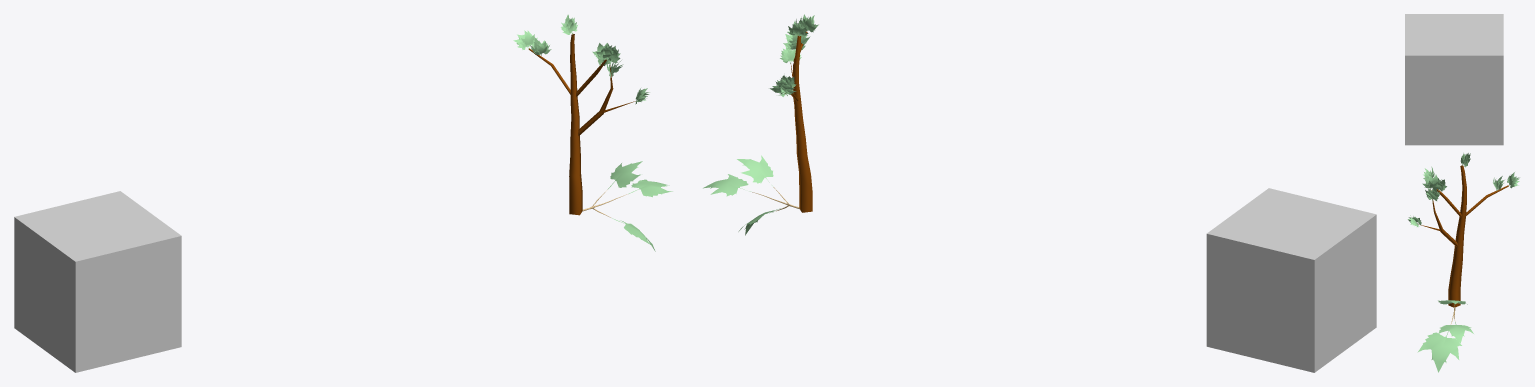
The model's file is FinalTree14.fbx.
3 renders of one model, left to right at view 1: azimuth 30°, elevation 25°; view 2: azimuth 150°, elevation 25°; view 3: azimuth 270°, elevation 25°, orthographic. The views are drawn at different scales.
Visible parts, largest first — view 1: Cube, Árbol; view 2: Cube, Árbol; view 3: Cube, Árbol, palmate.002, palmate.001.
Part boxes in pixels (left/top/right/bottom): Cube: left=14, top=191, right=181, bottom=372; Árbol: left=528, top=34, right=635, bottom=215; Cube: left=1206, top=188, right=1376, bottom=372; Árbol: left=785, top=31, right=812, bottom=212; Cube: left=1405, top=14, right=1503, bottom=145; Árbol: left=1419, top=165, right=1508, bottom=307; palmate.002: left=1417, top=331, right=1461, bottom=372; palmate.001: left=1438, top=322, right=1473, bottom=343.
Bounding box in the file's own units: 1185 × 433 × 235.
